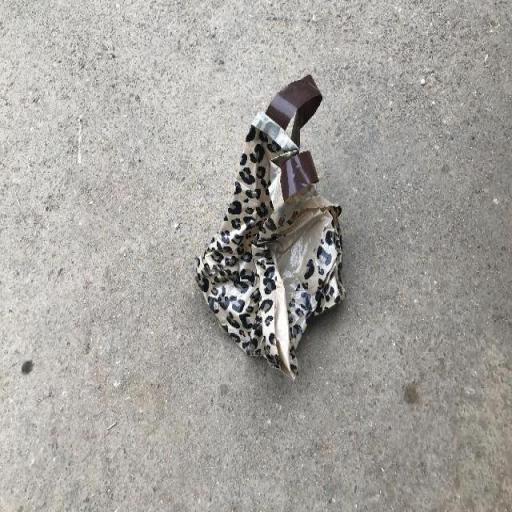plastic-bag: (192, 71, 350, 383)
